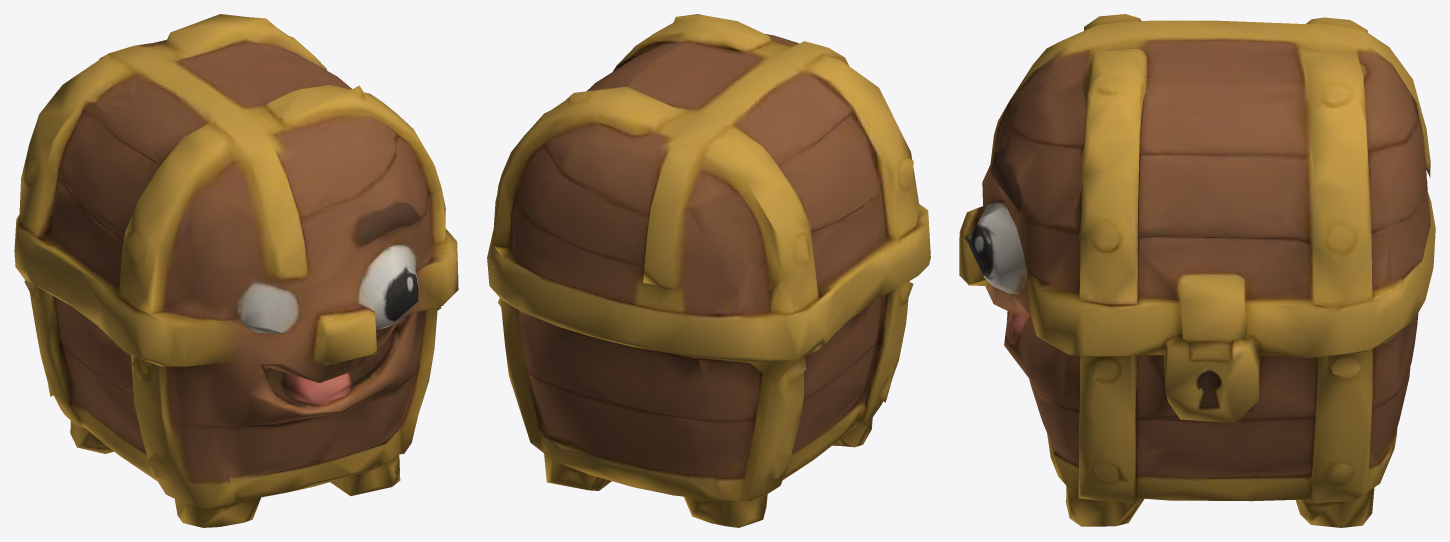
File: fish-treasure.glb
3 views of the same model, side by side, from view 1: azimuth 30°, elevation 25°; view 2: azimuth 150°, elevation 25°; view 3: azimuth 270°, elevation 25° (orthographic). The views are drawn at different scales.
Parts seen in each view (by area): view 1: tripo_node_cd69b08f-5689-4fc3-9643-73183978b31d; view 2: tripo_node_cd69b08f-5689-4fc3-9643-73183978b31d; view 3: tripo_node_cd69b08f-5689-4fc3-9643-73183978b31d.
Boxes of the visible parts, x1=… form: tripo_node_cd69b08f-5689-4fc3-9643-73183978b31d: x1=14, y1=14, x2=458, y2=527; tripo_node_cd69b08f-5689-4fc3-9643-73183978b31d: x1=487, y1=14, x2=930, y2=527; tripo_node_cd69b08f-5689-4fc3-9643-73183978b31d: x1=959, y1=14, x2=1435, y2=527.
Size of the model in its own units: 0.8854 by 1 by 0.9935.
1 material, 1 textured.
